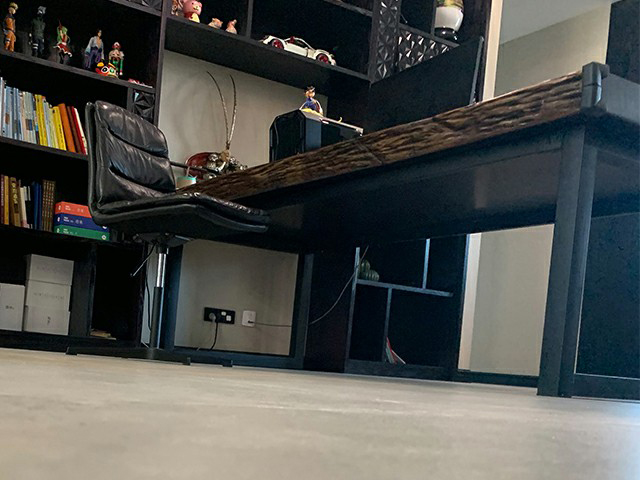cabinet: (1, 234, 469, 380)
stool: (66, 100, 272, 367)
table: (159, 62, 640, 401)
wire: (183, 306, 289, 348)
